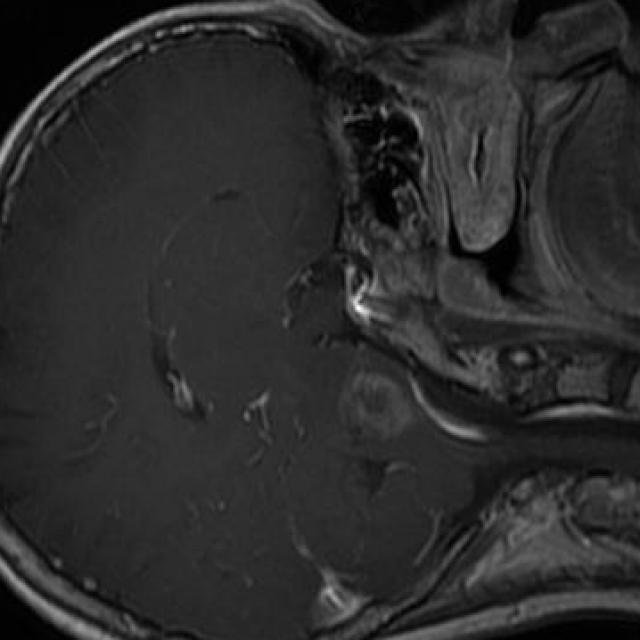glioma: (341, 373, 414, 440)
